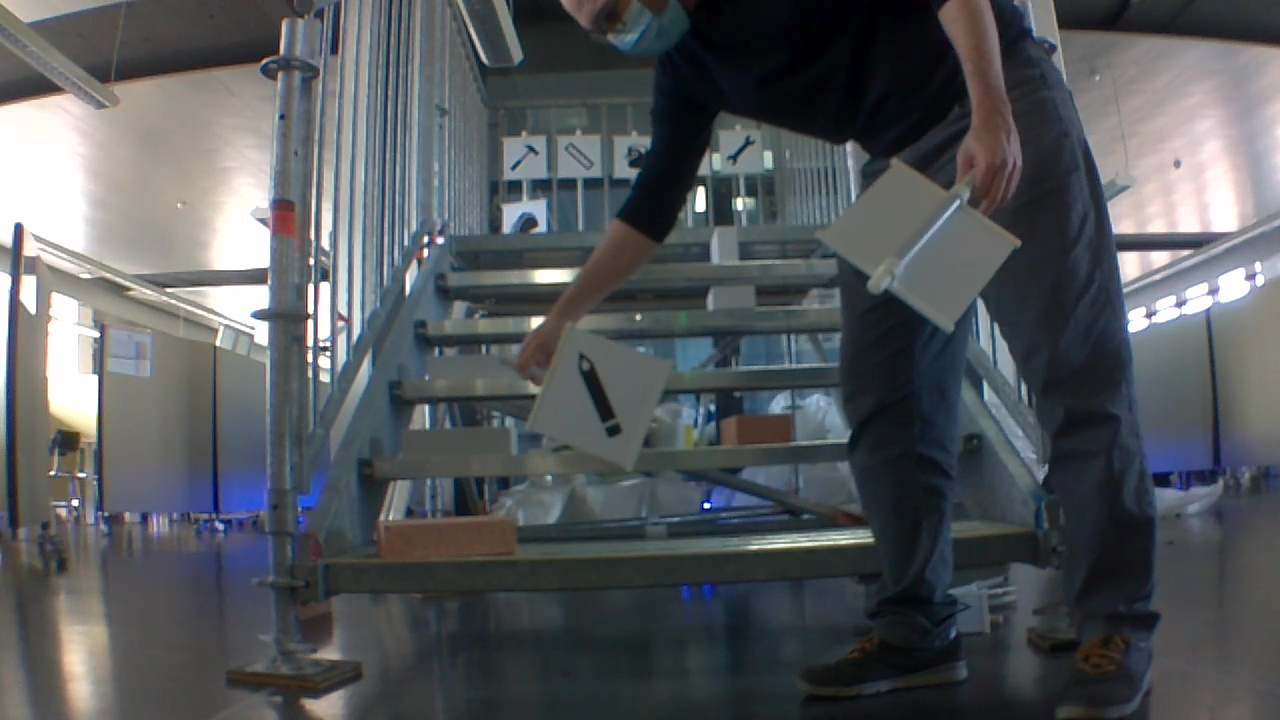brick: (373, 513, 522, 559), (398, 423, 521, 458), (719, 413, 797, 447), (706, 282, 756, 307), (709, 226, 740, 264)
bucket: (620, 140, 647, 170)
edge: (319, 539, 877, 601)
hammer: (510, 140, 542, 171)
pencil: (575, 349, 627, 443)
ruler: (562, 141, 595, 170)
taco: (510, 212, 537, 235)
wrench: (725, 132, 757, 167)
